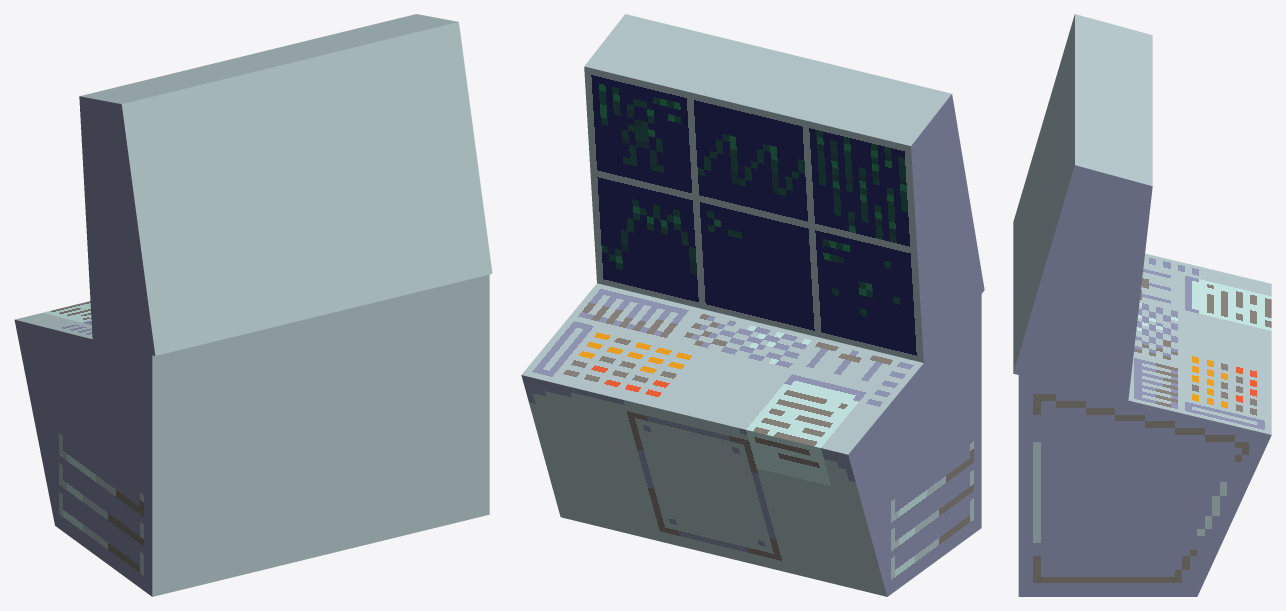
The model's file is superComputer.gltf.
3 renders of one model, left to right at view 1: azimuth 30°, elevation 25°; view 2: azimuth 150°, elevation 25°; view 3: azimuth 270°, elevation 25°, orthographic. The views are drawn at different scales.
Parts seen in each view (by area): view 1: cuboid (×2); view 2: cuboid (×2); view 3: cuboid (×2).
Boxes of the visible parts, x1,y1,x2,y2 form: cuboid (×2): [14, 14, 492, 596]; cuboid (×2): [521, 14, 984, 596]; cuboid (×2): [1013, 14, 1271, 596].
Bounding box in the file's own units: 3 × 4 × 2.17.
1 material, 1 textured.
